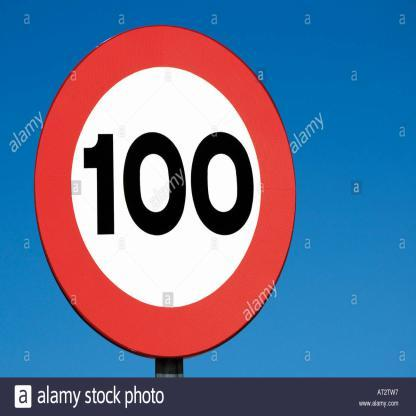Speed Limit 100: (37, 30, 297, 357)
